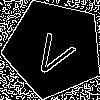V: (28, 23, 82, 80)
